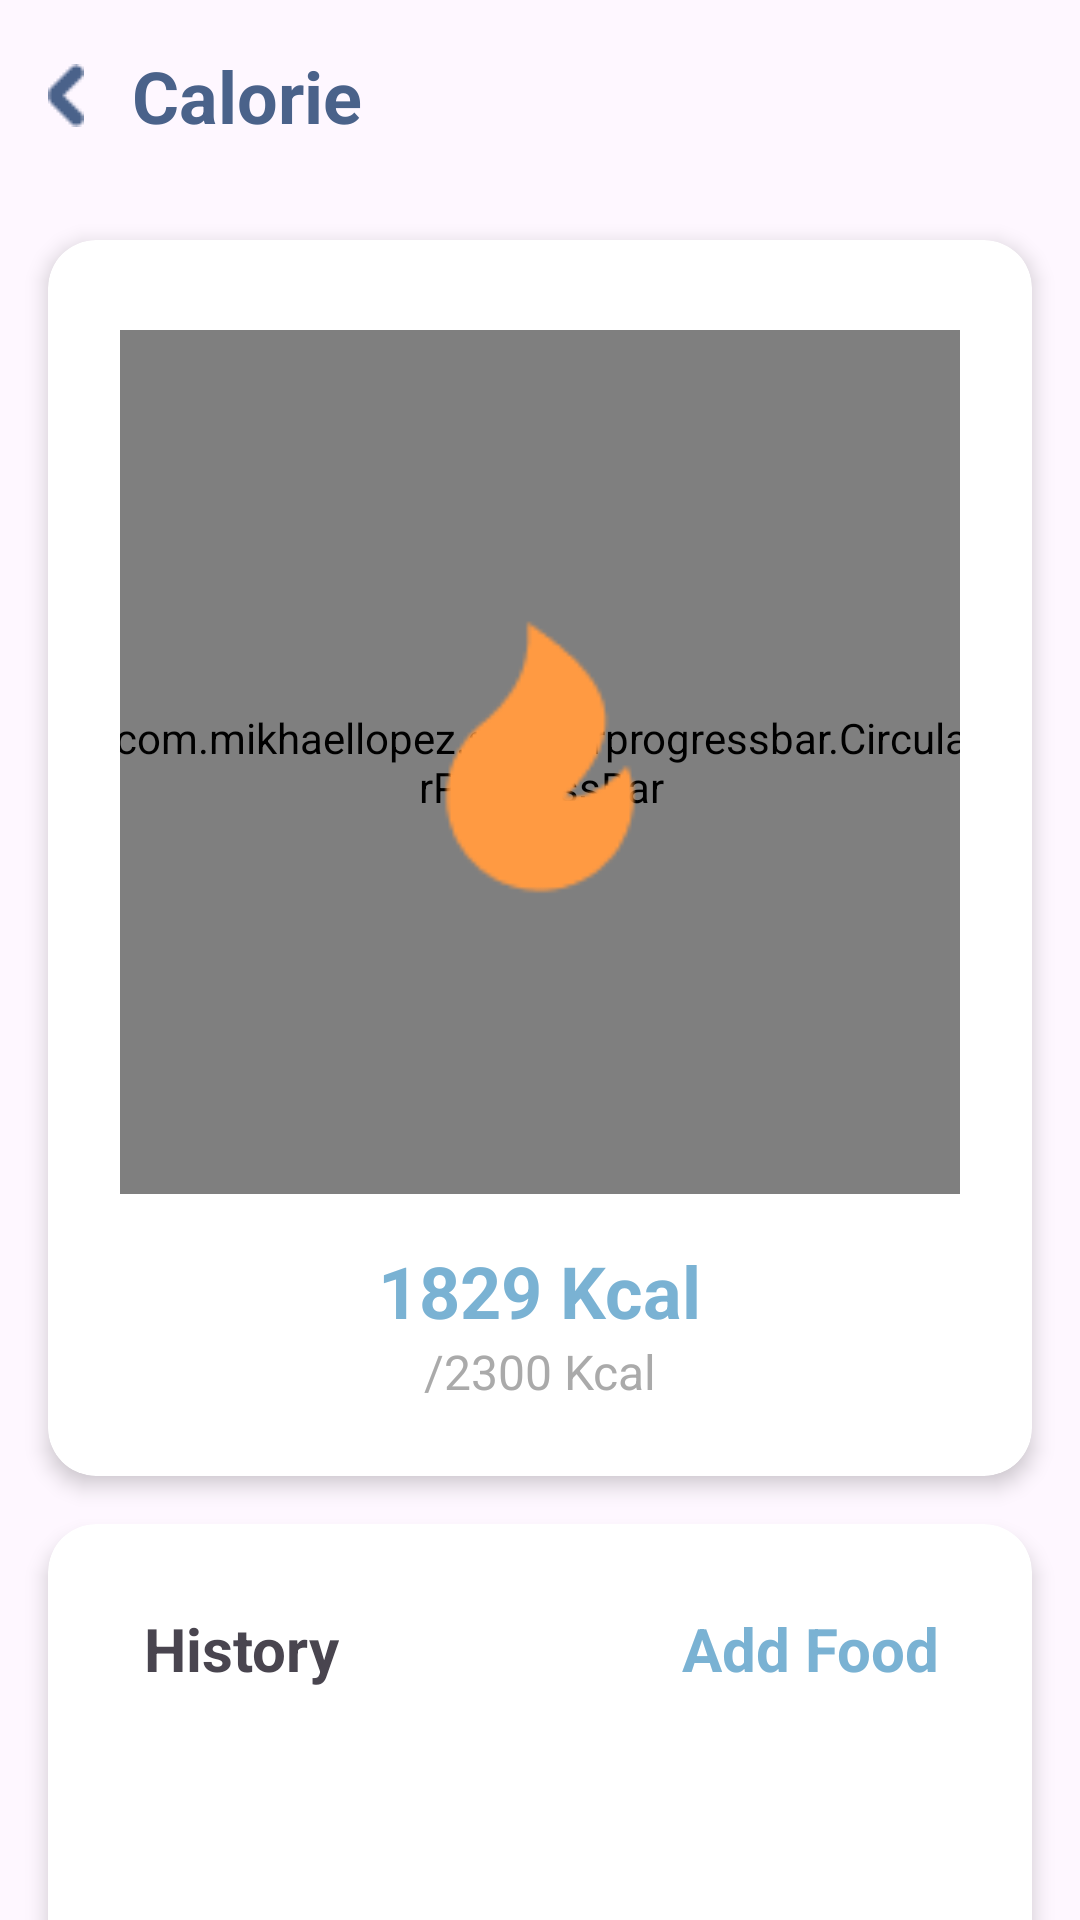

Named icons in this screenshot (1080w x 1920h) and their centers, [x,y]:
Back: [66,95]
